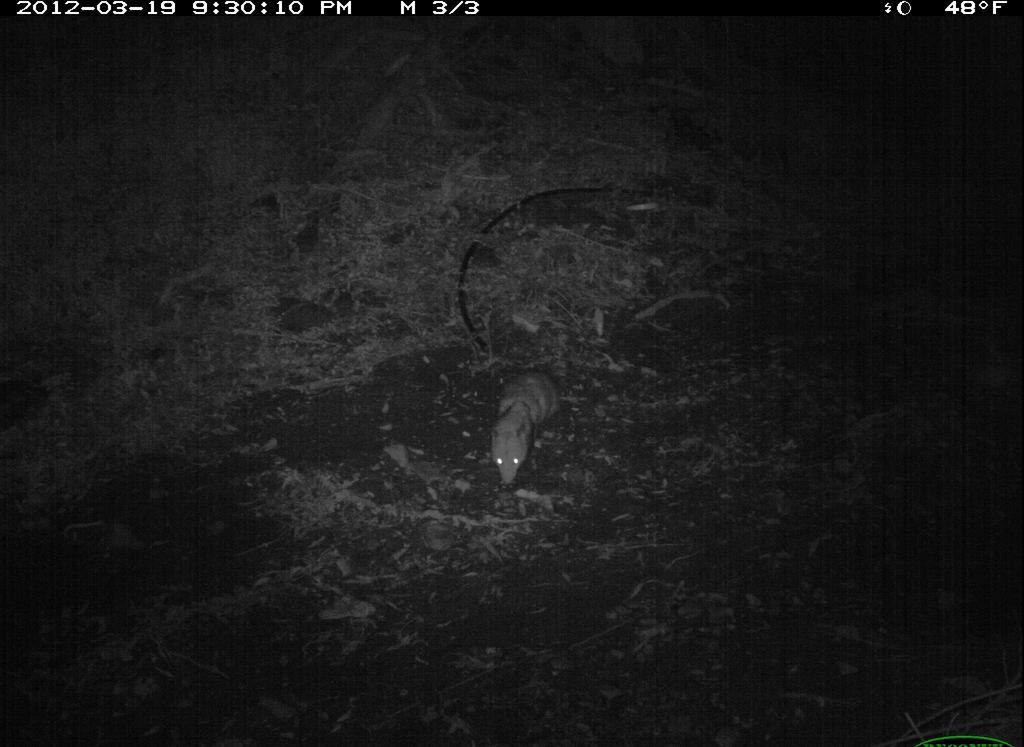opossum: (488, 364, 566, 488)
